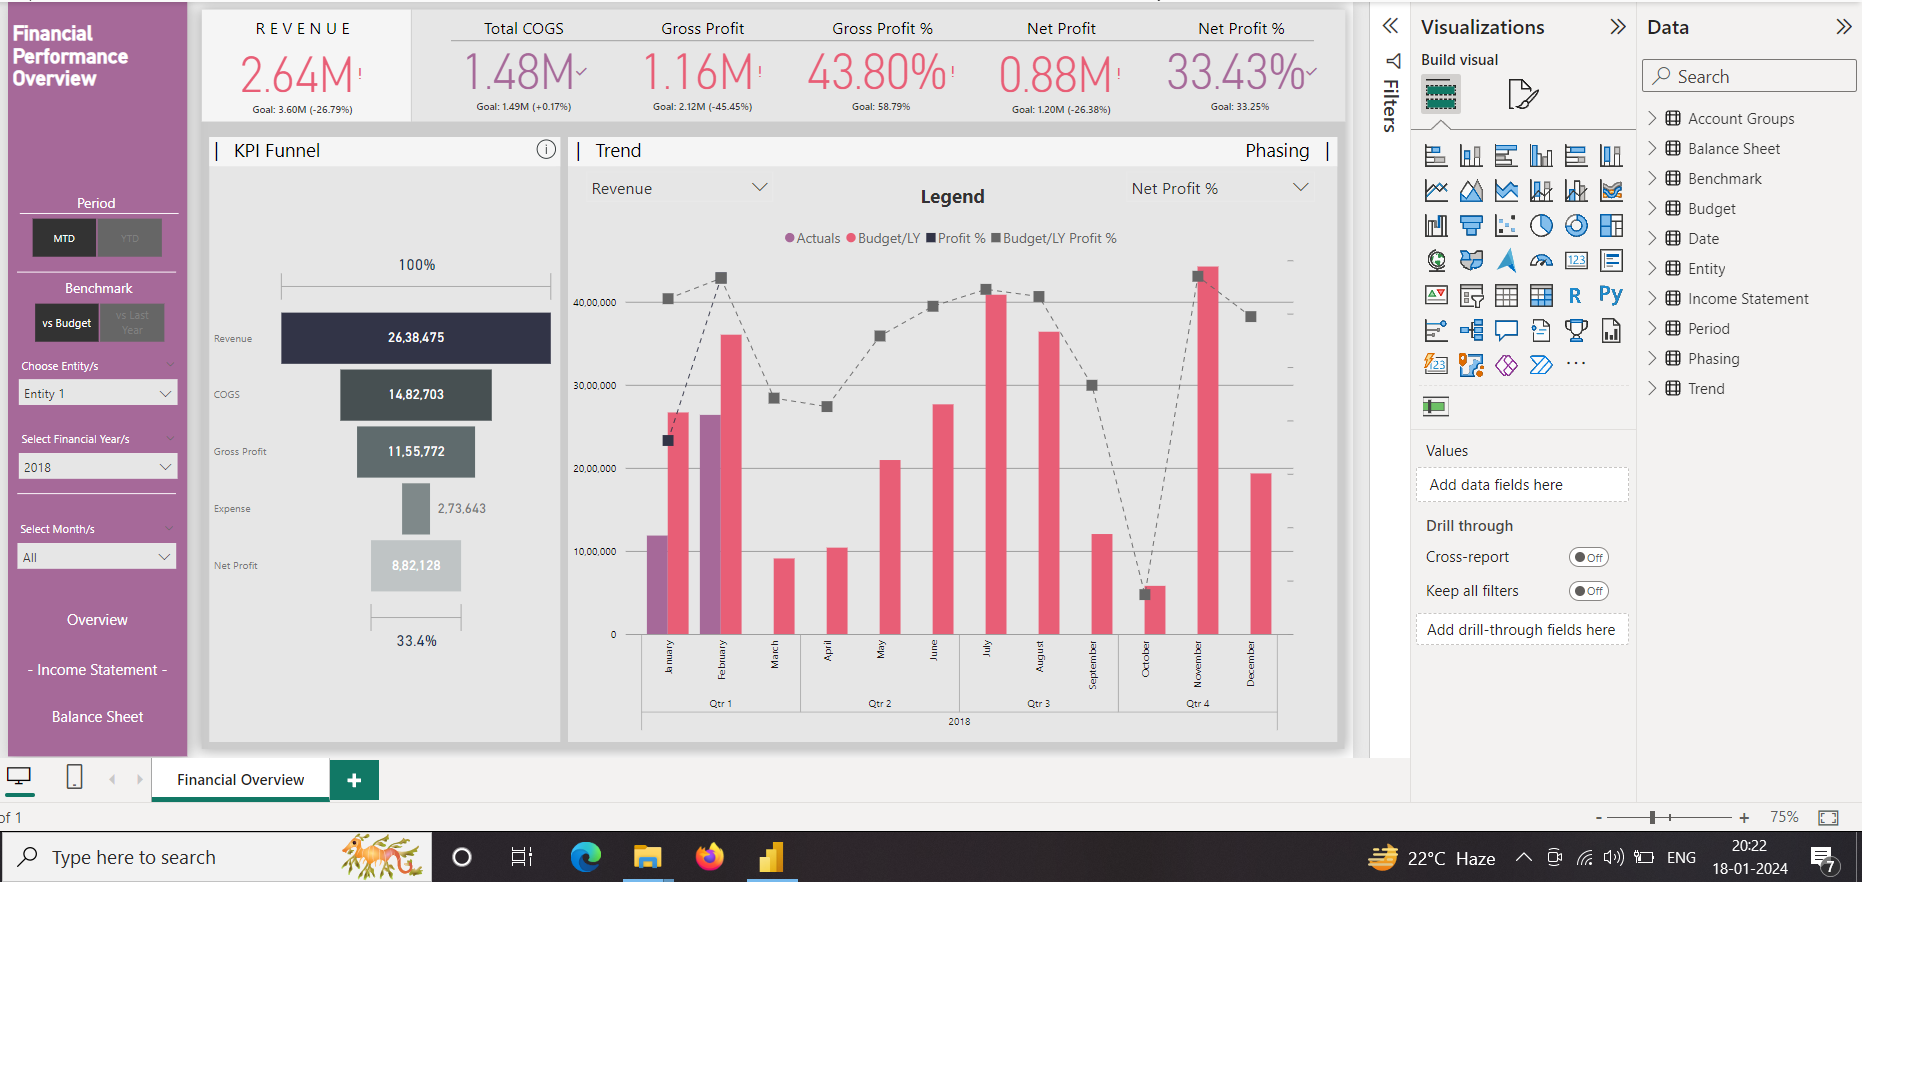

This screenshot's page, from the dashboard's own definition file:
{"tool":"powerbi","page":{"name":"Financial Overview","canvas":[1440,810],"ordinal":0},"visuals":[{"type":"shape","box":[208,8,1224,792],"z":0},{"type":"shape","box":[0,0,192,808],"z":1000},{"type":"shape","box":[208,8,224,120],"z":2000},{"type":"shape","box":[432,8,1000,120],"z":3000},{"type":"textbox","title":"|   Trend                                                                                                                      Phasing   |","box":[600,144,824,648],"z":6000},{"type":"lineClusteredColumnComboChart","title":"|","fields":{"Category":["Date Table.Date.Variation.Date Hierarchy.Year","Date Table.Date.Variation.Date Hierarchy.Quarter","Date Table.Date.Variation.Date Hierarchy.Month"],"Y":["Trend.Actuals","Trend.Budget/LY"],"Y2":["Phasing.Profit %","Phasing.Budget/LY Profit %"]},"box":[600,232,824,560],"z":7000},{"type":"slicer","title":"Phasing   |","fields":{"Values":["Phasing.Phasing"]},"box":[1188,171.7,221.7,53],"z":8000},{"type":"slicer","title":"|   Trend","fields":{"Values":["Trend.Trend"]},"box":[609.2,171.7,220.7,53],"z":9000},{"type":"funnel","title":"|   KPI Funnel","fields":{"Y":["Income Statement.Revenue","Income Statement.COGS","Income Statement.Gross Profit","Income Statement.Expense","Income Statement.Net Profit"]},"box":[216,144,376,648],"z":10000},{"type":"basicShape","box":[464.6,30,944,24],"z":21000},{"type":"kpi","title":"Net Profit %","fields":{"TrendLine":["Date Table.Date"],"Goal":["Comparison.Target Net Profit %"],"Indicator":["Income Statement.Net Profit %"]},"box":[1232.6,16,176,112],"z":22000},{"type":"kpi","title":"Net Profit","fields":{"TrendLine":["Date Table.Date"],"Goal":["Comparison.Target Net Profit"],"Indicator":["Income Statement.Net Profit"]},"box":[1040.6,16,176,112],"z":23000},{"type":"kpi","title":"Gross Profit %","fields":{"TrendLine":["Date Table.Date"],"Goal":["Comparison.Target Gross Profit %"],"Indicator":["Income Statement.Gross Profit %"]},"box":[848.6,16,176,112],"z":24000},{"type":"kpi","title":"Gross Profit","fields":{"TrendLine":["Date Table.Date"],"Goal":["Comparison.Target Gross Profit"],"Indicator":["Income Statement.Gross Profit"]},"box":[656.6,16,176,112],"z":25000},{"type":"kpi","title":"Total COGS","fields":{"TrendLine":["Date Table.Date"],"Goal":["Comparison.Target COGS"],"Indicator":["Income Statement.COGS"]},"box":[464.6,16,176,112],"z":26000},{"type":"kpi","title":"R E V E N U E","fields":{"TrendLine":["Date Table.Date"],"Goal":["Comparison.Target Revenue"],"Indicator":["Income Statement.Revenue"]},"box":[208,16,216,112],"z":27000},{"type":"actionButton","box":[0,744,192,40],"z":29000},{"type":"actionButton","box":[0,693.5,191.5,40.2],"z":32000},{"type":"actionButton","box":[0,640,191.5,40.2],"z":33000},{"type":"basicShape","box":[0,517.1,190,16.3],"z":35000},{"type":"slicer","fields":{"Values":["Calender-Date.Month"]},"box":[0,551.6,190.1,79],"z":36000},{"type":"slicer","fields":{"Values":["Calender-Date.Year"]},"box":[1.3,455.2,190.1,77.7],"z":37000},{"type":"slicer","fields":{"Values":["Entity.Entity"]},"box":[1.3,376.2,190.1,79],"z":38000},{"type":"basicShape","box":[0,280.2,190,15.8],"z":39000},{"type":"slicer","title":"Benchmark","fields":{"Values":["Benchmark.Benchmark"]},"box":[2.7,295.9,188.8,75],"z":40000},{"type":"slicer","title":"Period","fields":{"Values":["Period.Period"]},"box":[0,204.8,188.8,75],"z":41000},{"type":"basicShape","box":[2.7,216.9,190.1,16.1],"z":42000},{"type":"actionButton","box":[414,142.2,178.5,31.4],"z":43000},{"type":"textbox","box":[0,16.1,162,112.5],"z":44001}]}

Visuals, with their boxes on the page's 1440x810 design canvas (x1, y1, x2, y2). These are canvas units, not pixel positions in the 1920x1080 screenshot, which may show the page scaled, cropped or inside an application window:
shape: bbox=[208, 8, 1432, 800]
shape: bbox=[0, 0, 192, 808]
shape: bbox=[208, 8, 432, 128]
shape: bbox=[432, 8, 1432, 128]
"|   Trend                                                                                                                      Phasing   |" textbox: bbox=[600, 144, 1424, 792]
"|" lineClusteredColumnComboChart: bbox=[600, 232, 1424, 792]
"Phasing   |" slicer: bbox=[1188, 172, 1410, 225]
"|   Trend" slicer: bbox=[609, 172, 830, 225]
"|   KPI Funnel" funnel: bbox=[216, 144, 592, 792]
basicShape: bbox=[465, 30, 1409, 54]
"Net Profit %" kpi: bbox=[1233, 16, 1409, 128]
"Net Profit" kpi: bbox=[1041, 16, 1217, 128]
"Gross Profit %" kpi: bbox=[849, 16, 1025, 128]
"Gross Profit" kpi: bbox=[657, 16, 833, 128]
"Total COGS" kpi: bbox=[465, 16, 641, 128]
"R E V E N U E" kpi: bbox=[208, 16, 424, 128]
actionButton: bbox=[0, 744, 192, 784]
actionButton: bbox=[0, 694, 192, 734]
actionButton: bbox=[0, 640, 192, 680]
basicShape: bbox=[0, 517, 190, 533]
slicer - Calender-Date.Month: bbox=[0, 552, 190, 631]
slicer - Calender-Date.Year: bbox=[1, 455, 191, 533]
slicer - Entity.Entity: bbox=[1, 376, 191, 455]
basicShape: bbox=[0, 280, 190, 296]
"Benchmark" slicer: bbox=[3, 296, 192, 371]
"Period" slicer: bbox=[0, 205, 189, 280]
basicShape: bbox=[3, 217, 193, 233]
actionButton: bbox=[414, 142, 592, 174]
textbox: bbox=[0, 16, 162, 129]
